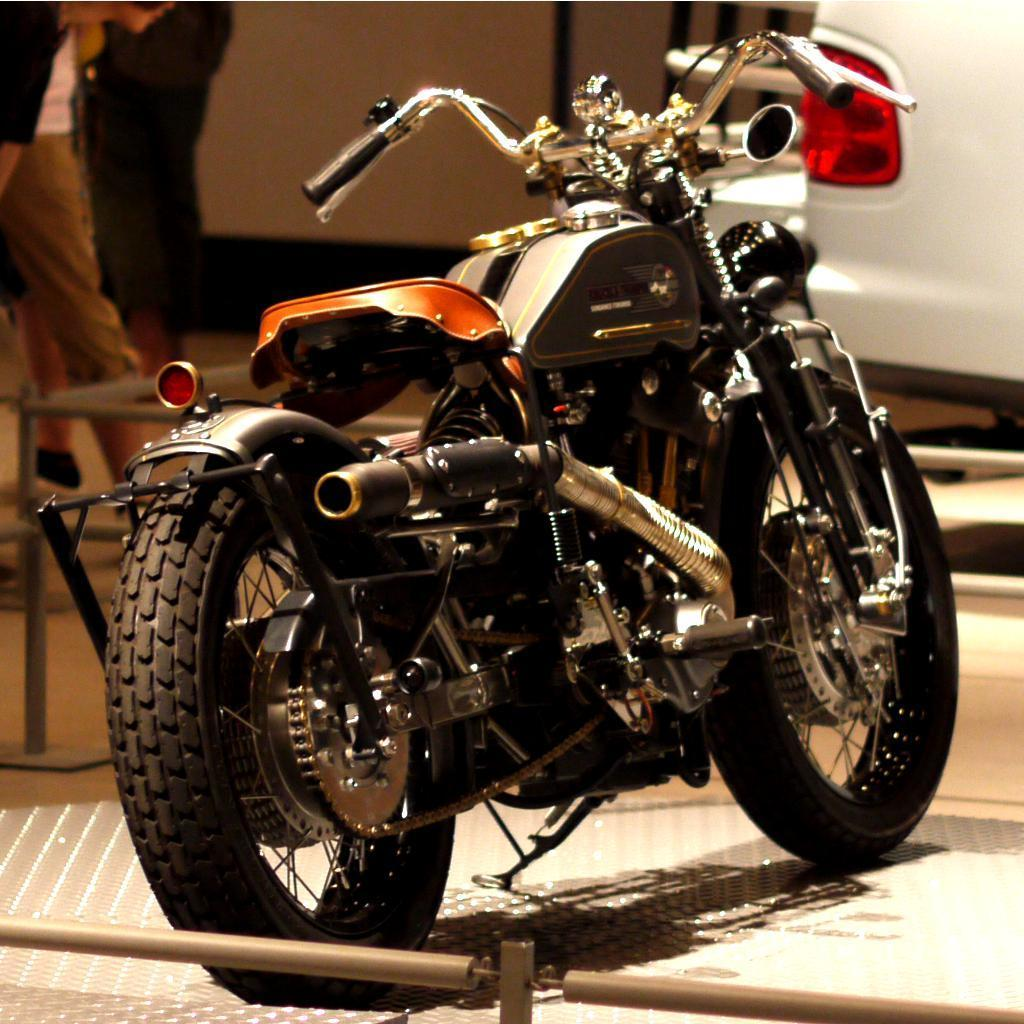Motorcycle: (52, 43, 999, 949)
